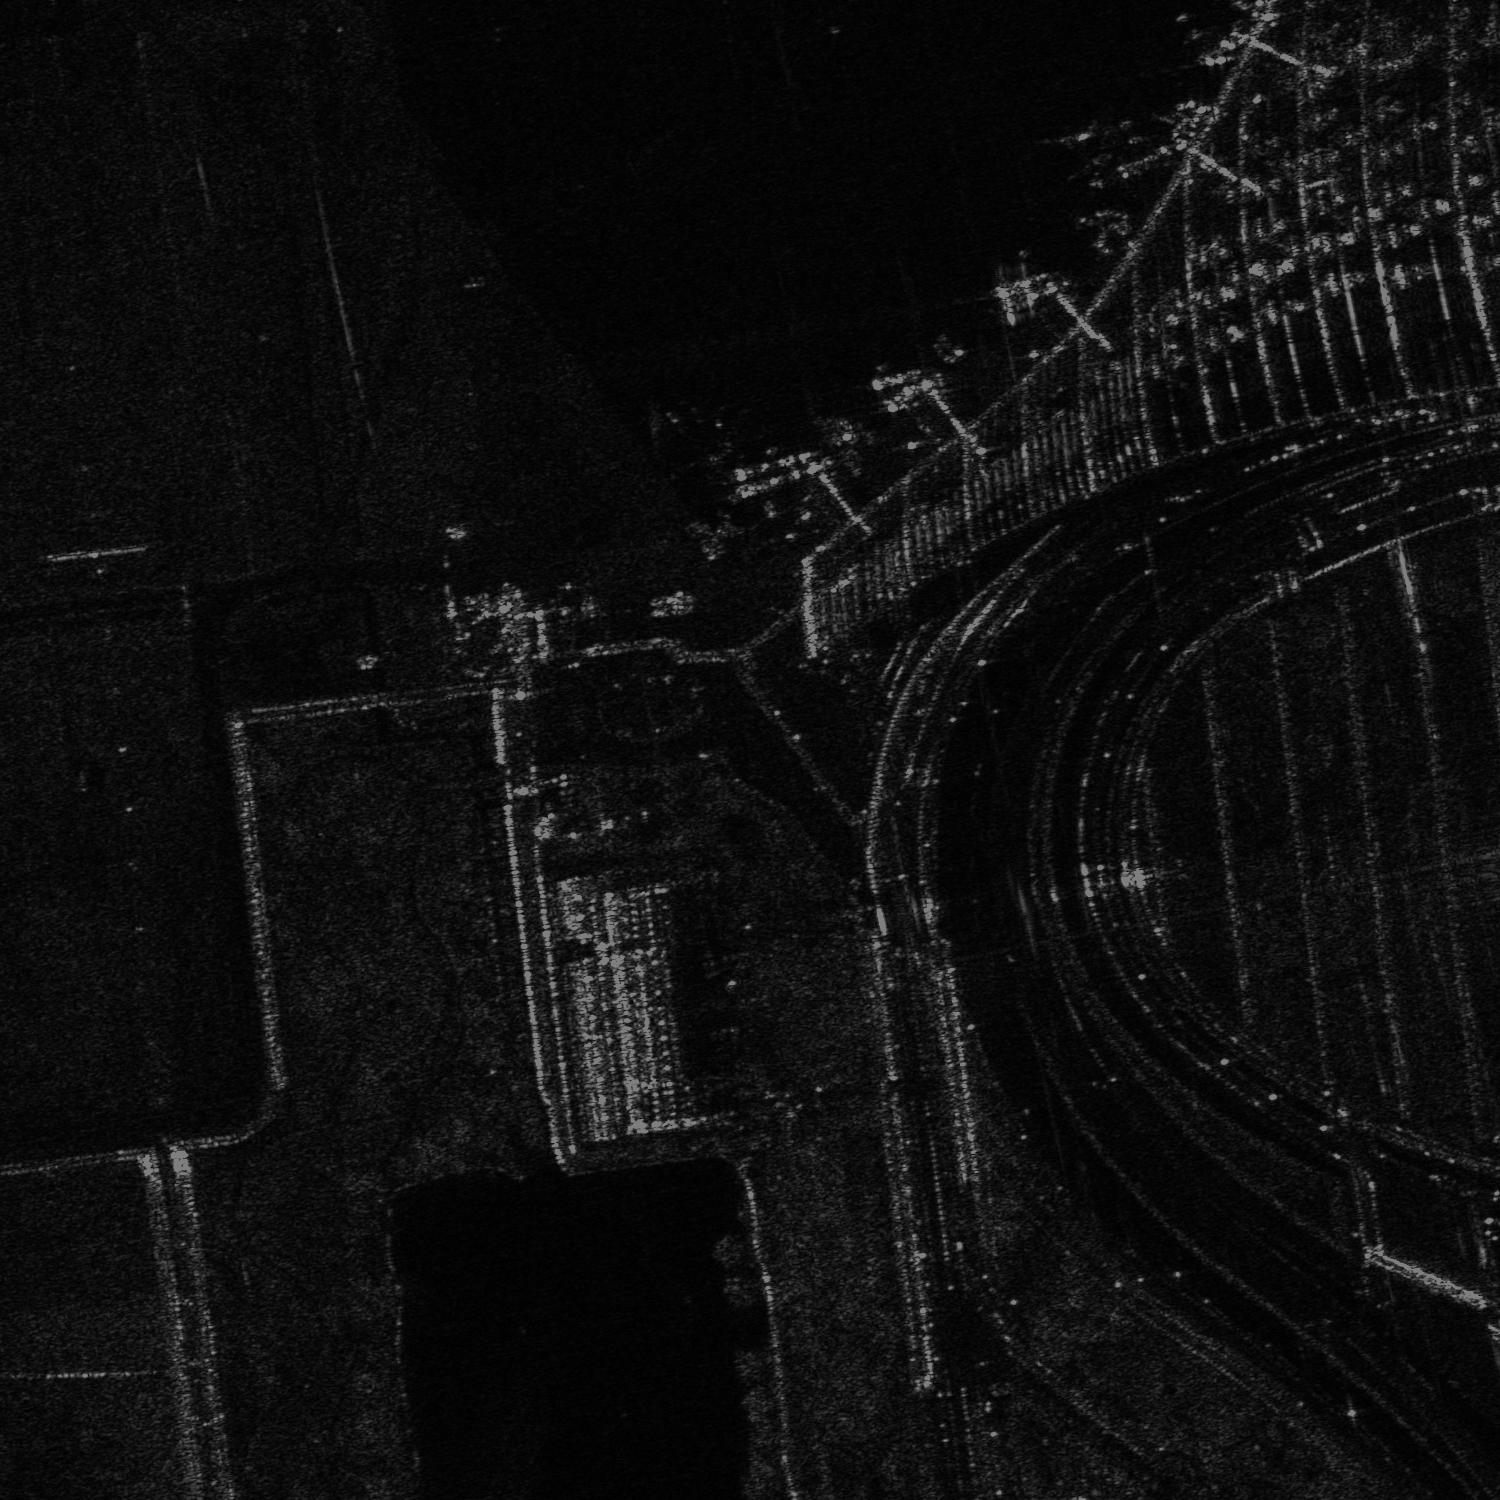A220: (1056, 115, 1109, 183)
